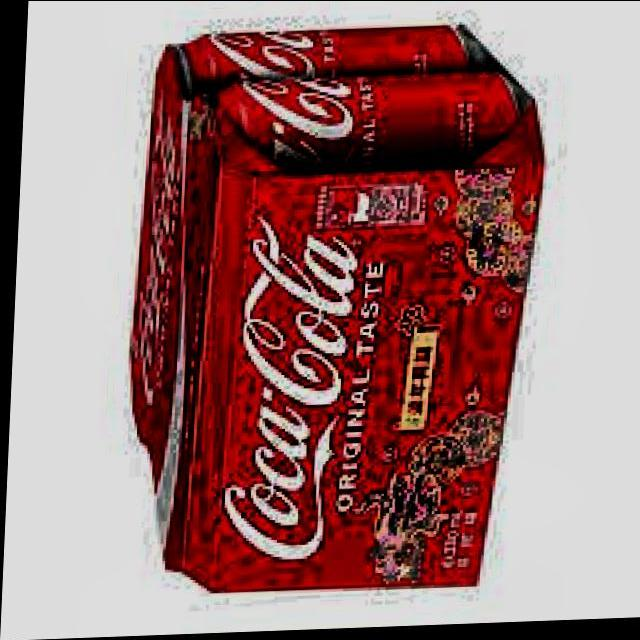litter: (188, 69, 530, 187), (158, 24, 482, 102)
